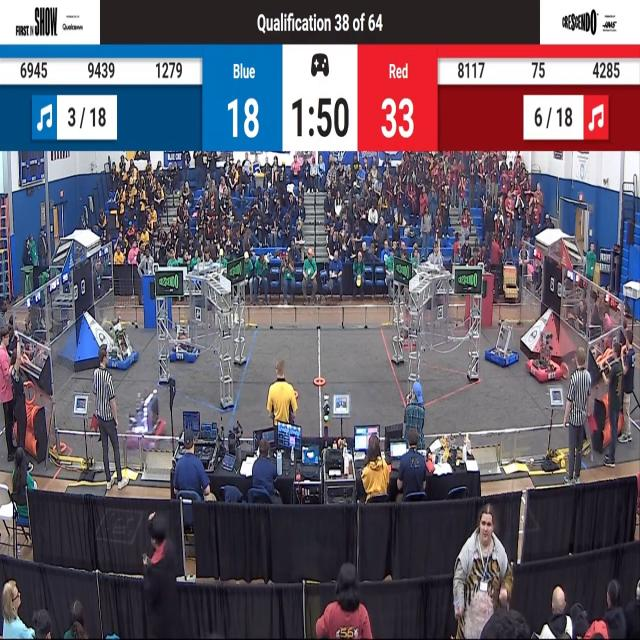Robot: (524, 317, 564, 387), (127, 384, 167, 449), (103, 316, 138, 374), (484, 315, 518, 373), (169, 310, 200, 366)
